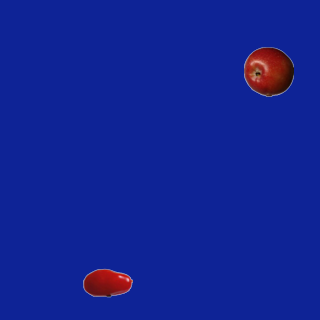Apple Braeburn: (243, 46, 293, 96)
Tomato 2: (82, 257, 132, 307)
